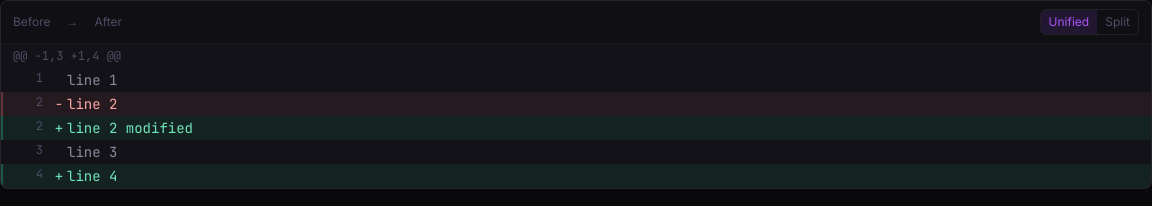
it: DiffViewer › switches to split mode
This screenshot has width=1152, height=206.
Click the button "Split" at {"x": 1118, "y": 22}, box [1097,10,1138,34]
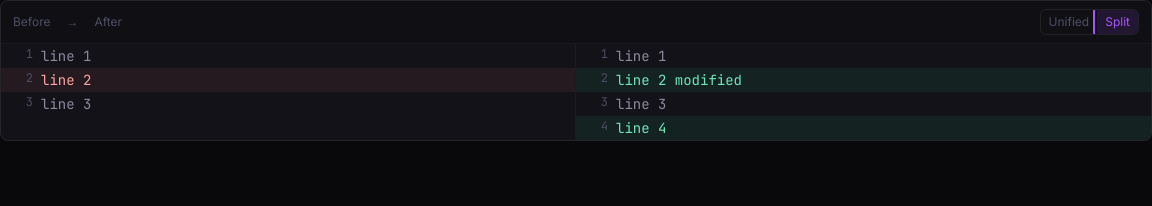
Now the text "line 1" is shown 2 times, box [41,47,91,65]; [616,47,666,65]
